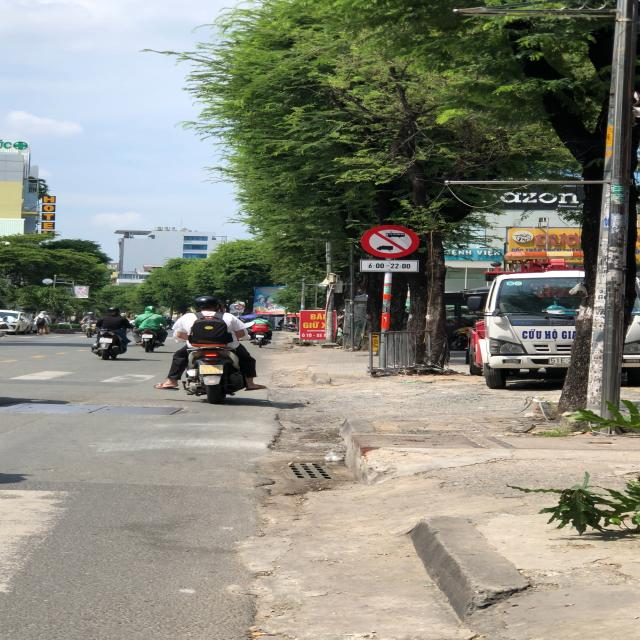Bien bao cam xe oto khach va xe oto tai: (357, 223, 423, 259)
